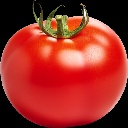tomato: (1, 14, 128, 127)
